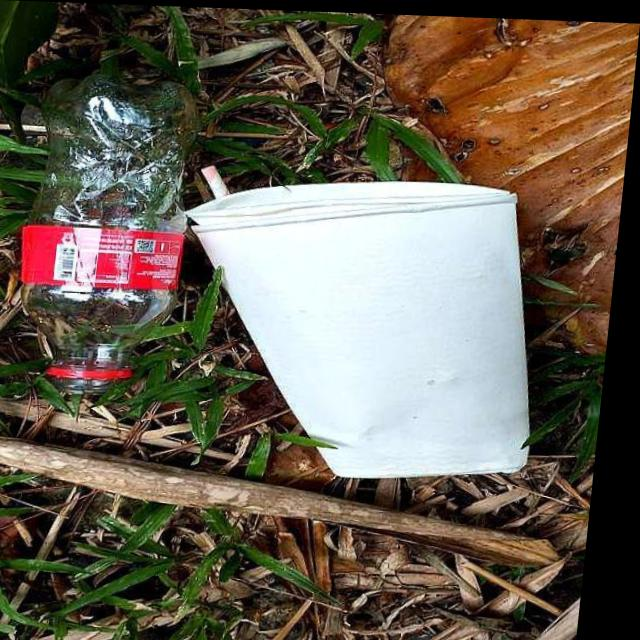Biodegradable: (181, 174, 562, 480)
Non-biodegradable: (16, 76, 209, 397)
